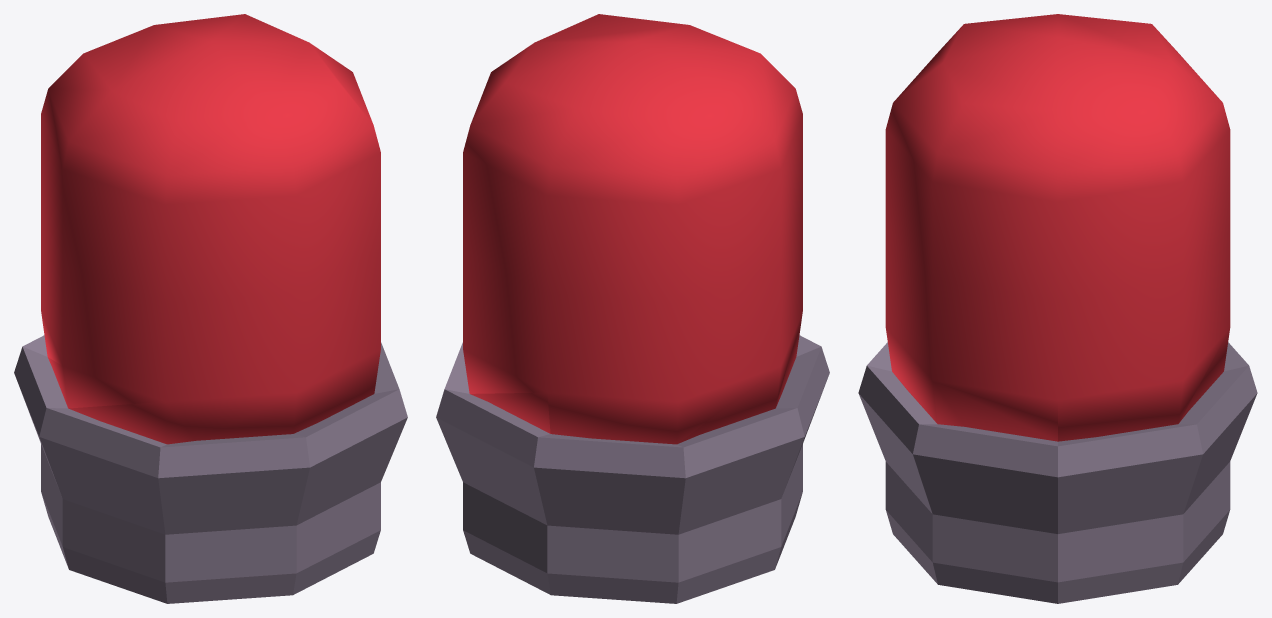
File: AlarmMesh.fbx
3 views of the same model, side by side, from view 1: azimuth 30°, elevation 25°; view 2: azimuth 150°, elevation 25°; view 3: azimuth 270°, elevation 25° (orthographic).
Visible parts, largest first — view 1: Cube.008, Cube.007; view 2: Cube.008, Cube.007; view 3: Cube.008, Cube.007.
Boxes of the visible parts, bbox=[...] form: Cube.008: bbox=[41, 14, 380, 444]; Cube.007: bbox=[14, 335, 407, 603]; Cube.008: bbox=[463, 14, 802, 444]; Cube.007: bbox=[436, 335, 829, 603]; Cube.008: bbox=[885, 14, 1230, 441]; Cube.007: bbox=[858, 342, 1257, 603].
Bounding box in the file's own units: 212 × 297 × 212.
